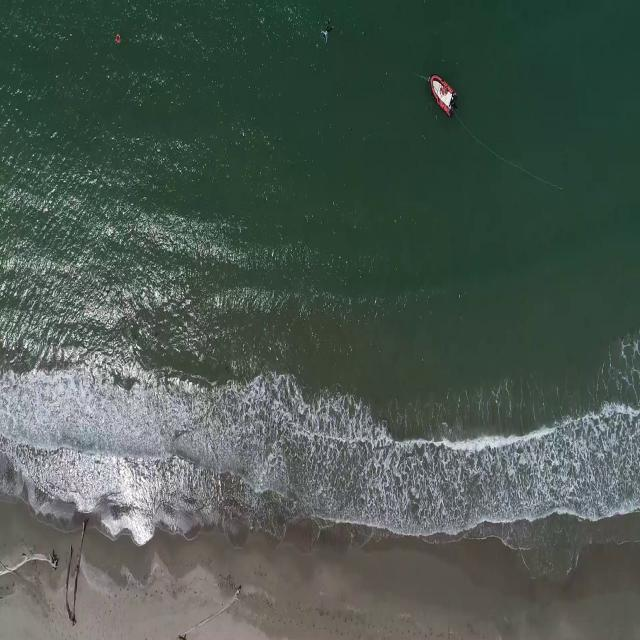boat: (429, 75, 457, 121)
life_buoy: (113, 34, 122, 46)
person: (321, 24, 334, 49)
wood: (176, 584, 243, 635), (67, 517, 88, 629), (0, 551, 63, 575)
